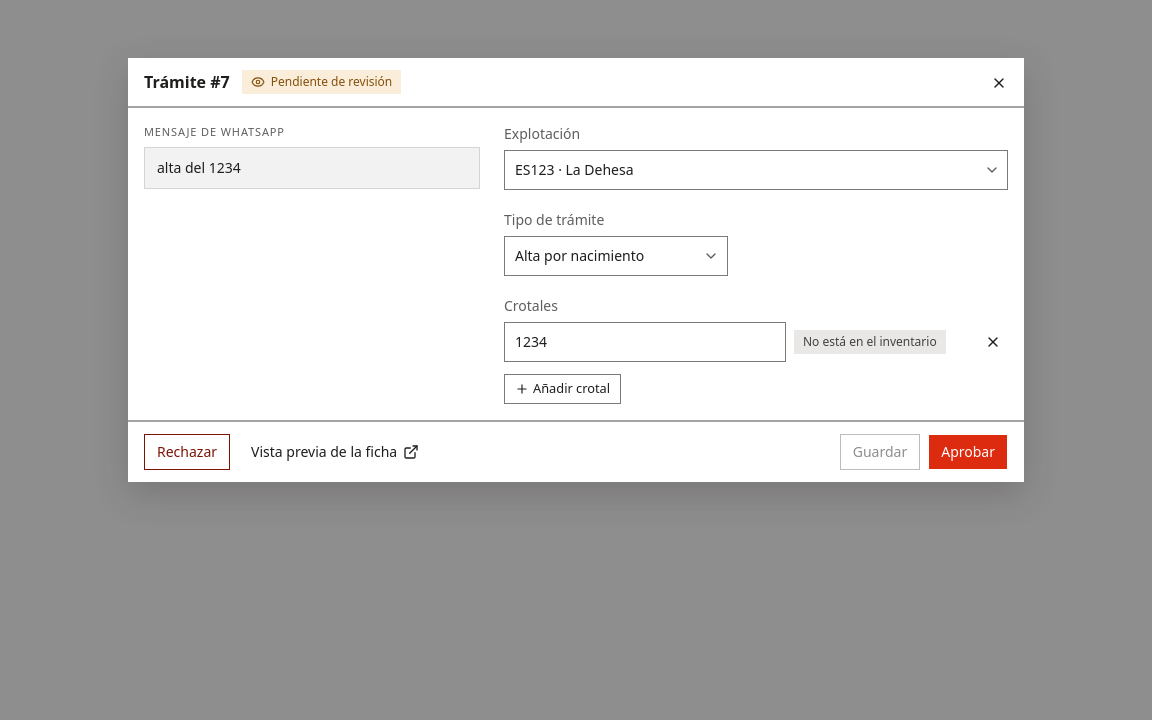
Test: TramiteReviewDialog: ficha para OVZ (ficha OVZ, T5) › PENDIENTE_REVISION con cambios sin guardar: la vista previa se desactiva (enseñaría lo guardado)
The image size is (1152, 720).
Expected: the heading "Mensaje de WhatsApp" is shown, [144,124,285,139]
Step 1. Type "5" into the field named "Crotal 1" → (645, 342), box [504,322,786,362]
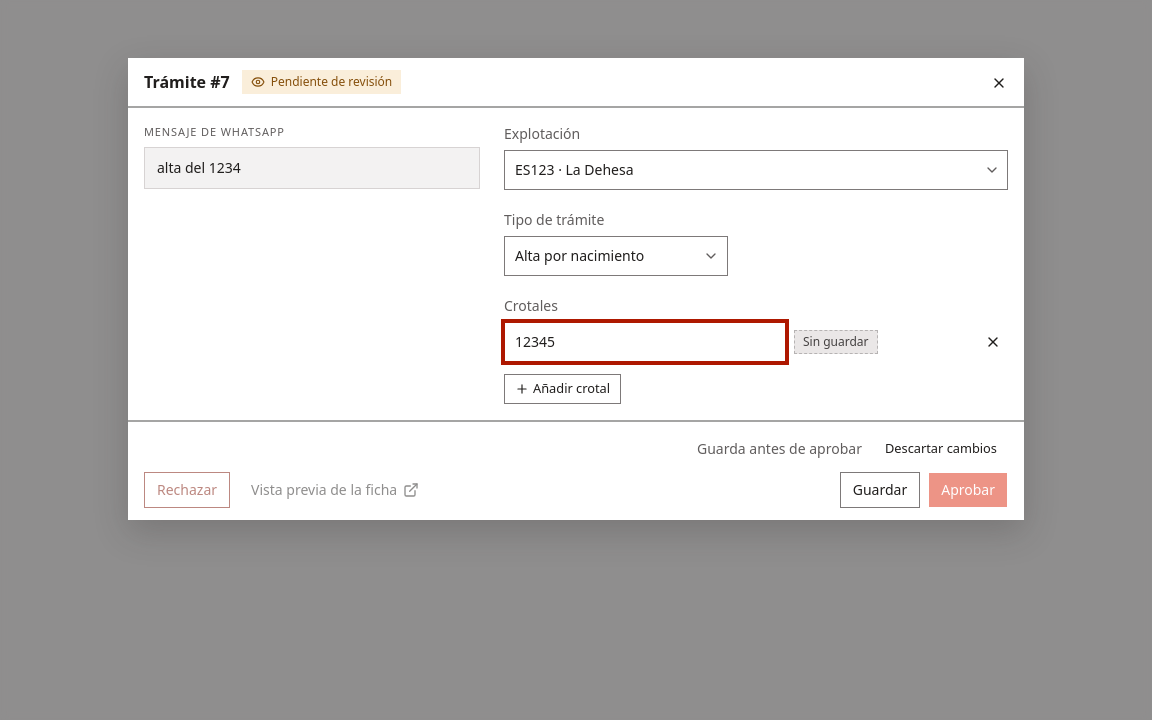
Expected: the button "Vista previa de la ficha" is disabled, [238,472,432,508]
